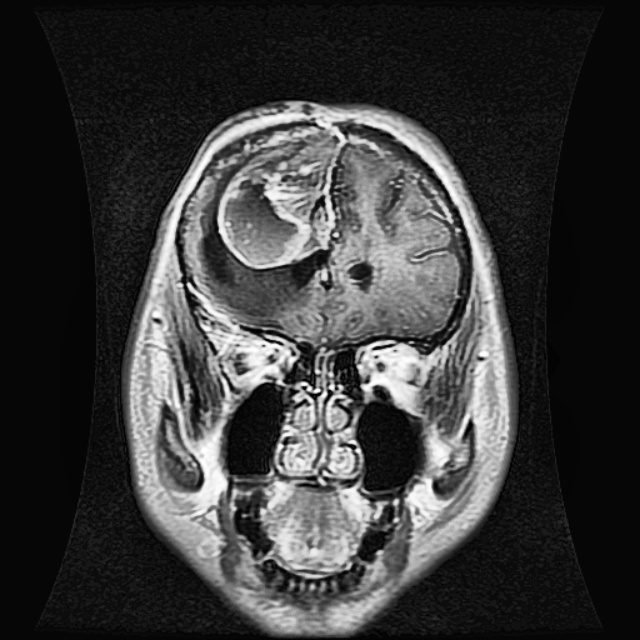Meningioma: (197, 135, 333, 314)
